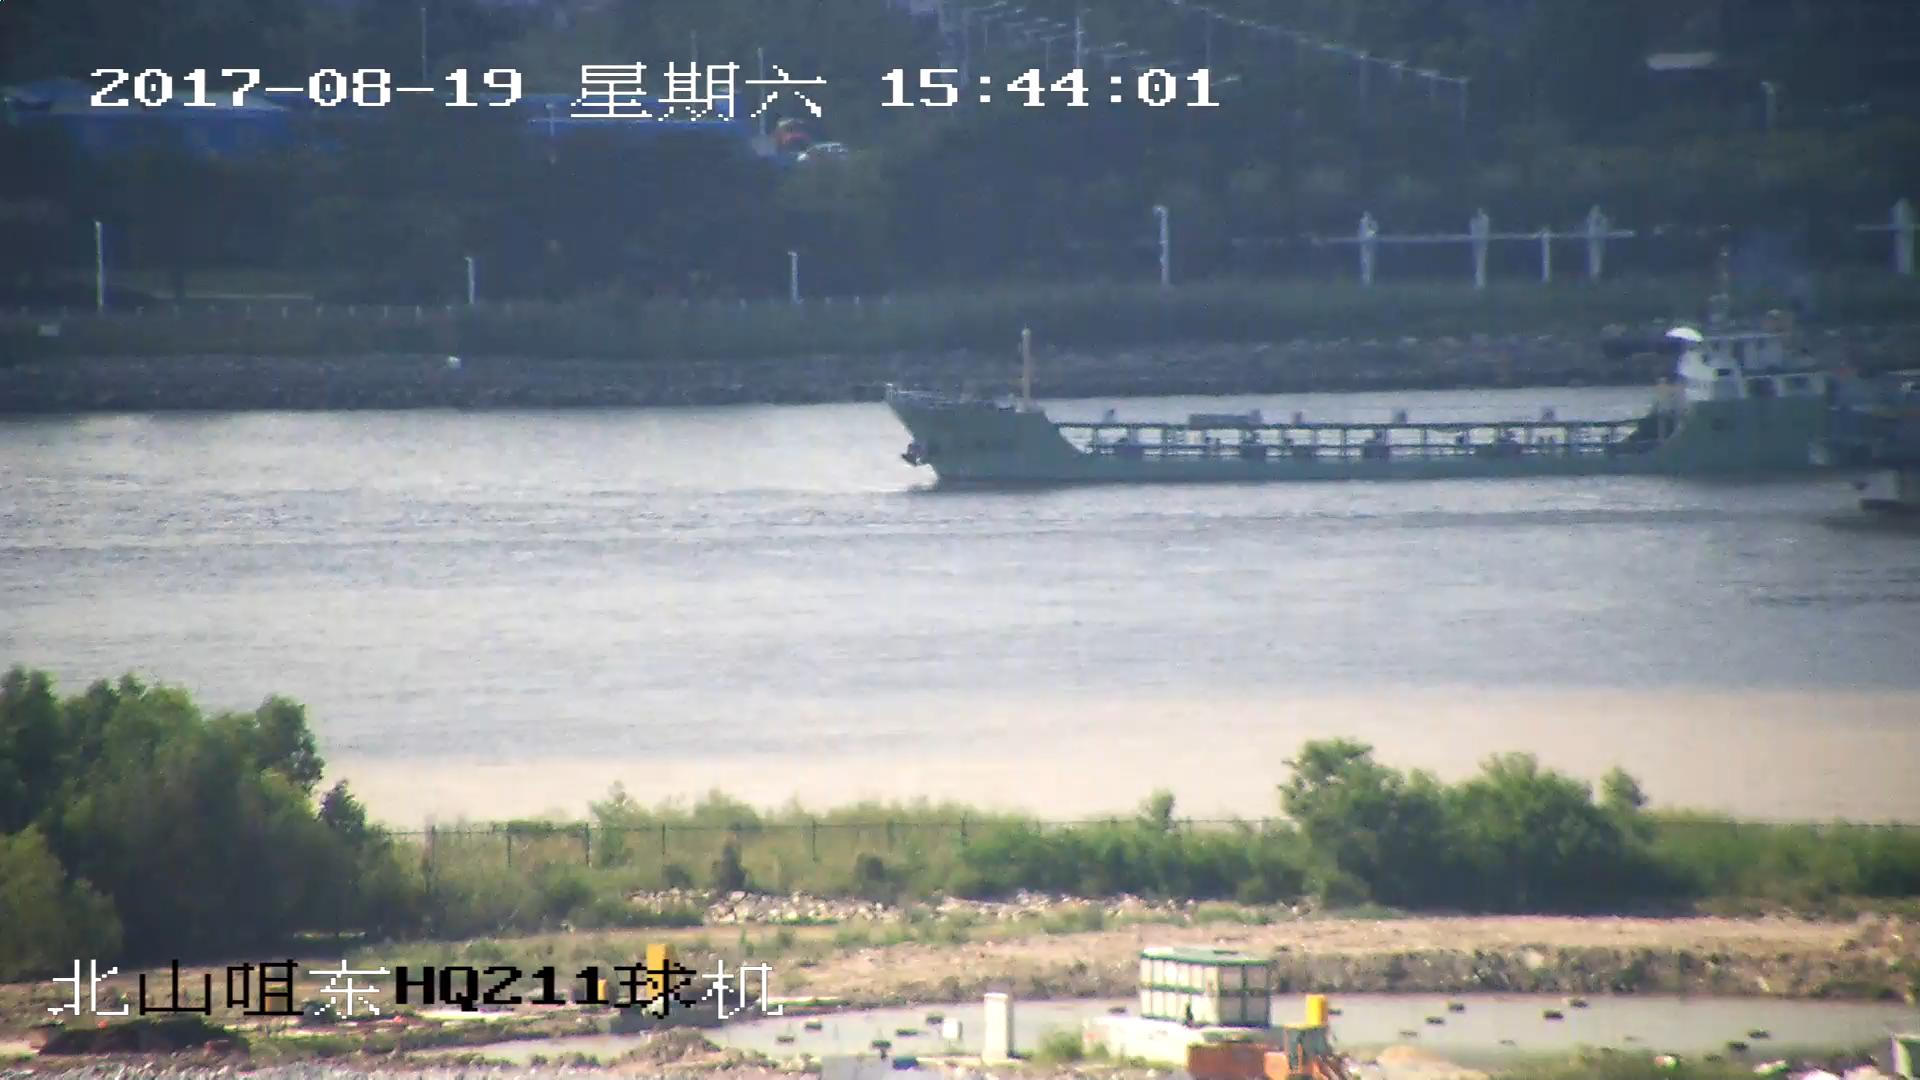general cargo ship: (884, 283, 1920, 485)
